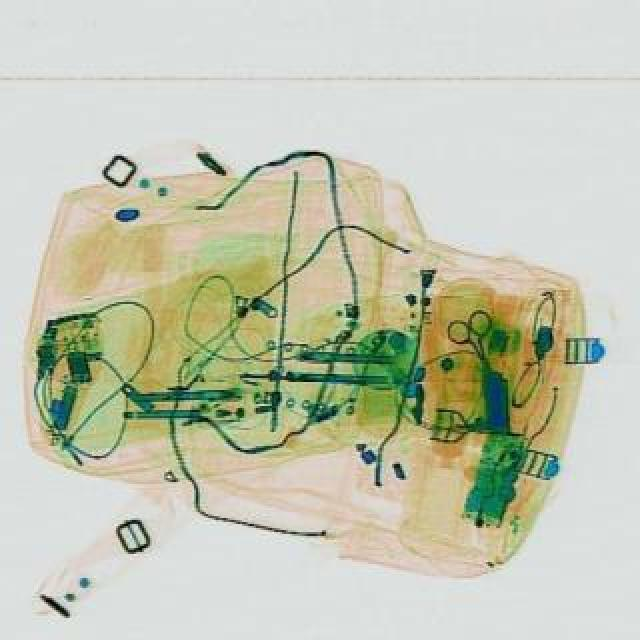pliers: (440, 306, 508, 378)
